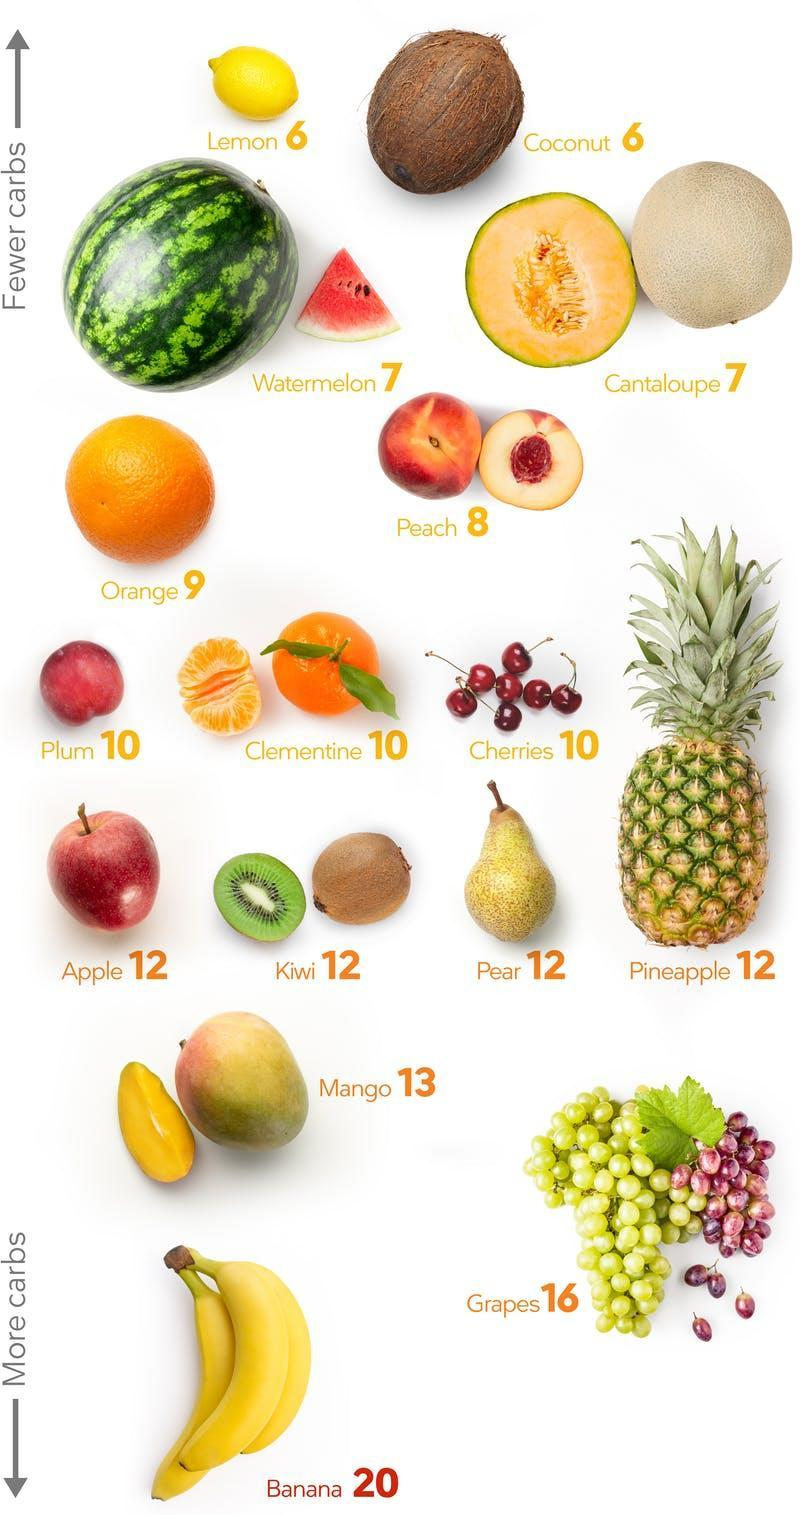apple: (47, 806, 159, 934), (38, 639, 122, 730)
